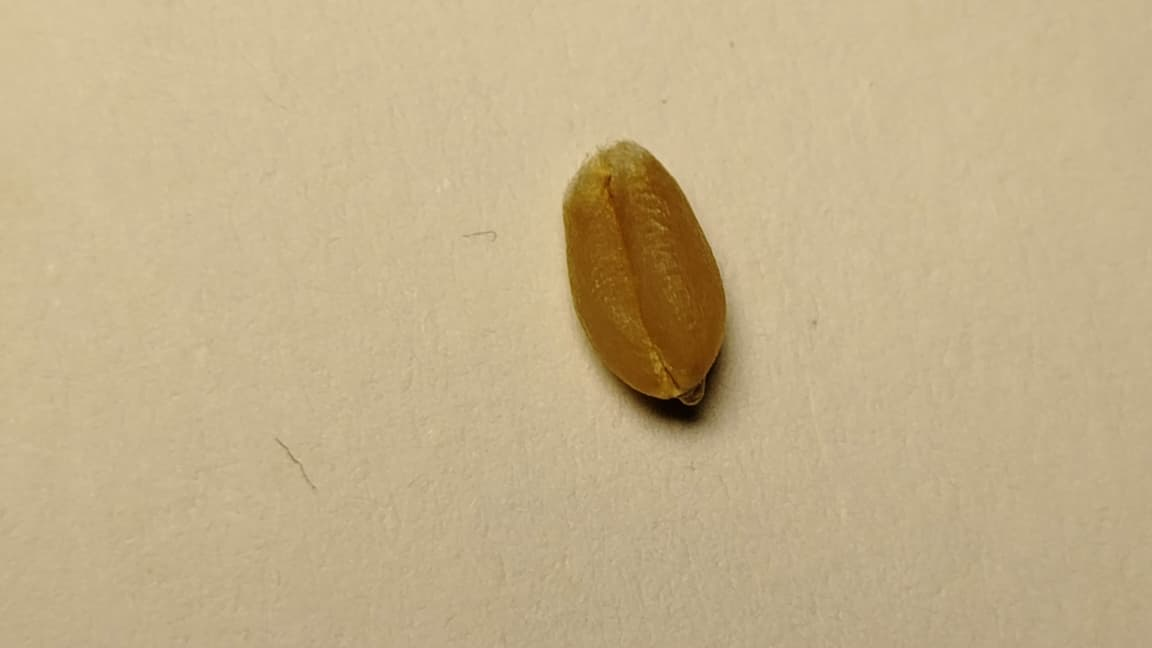healthy: (564, 142, 725, 399)
